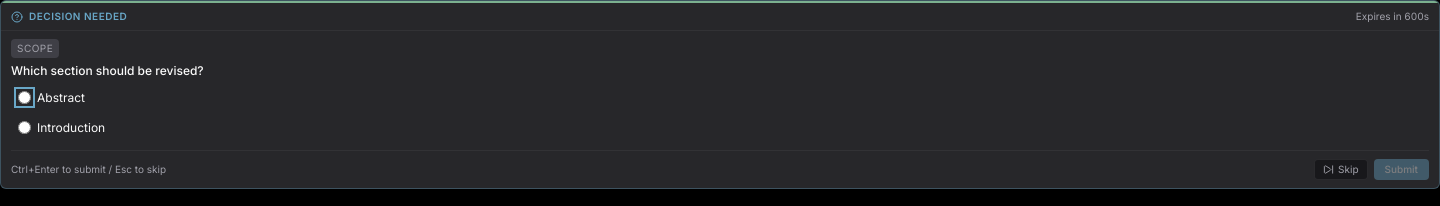
Test case: ChatMessage › renders user question actions with focus feedback and hidden decorative icons
Expected: the button "Submit" is disabled, [1374,159,1429,180]
Click the radio button labelled "Abstract" at (24, 98), box [18,91,31,104]
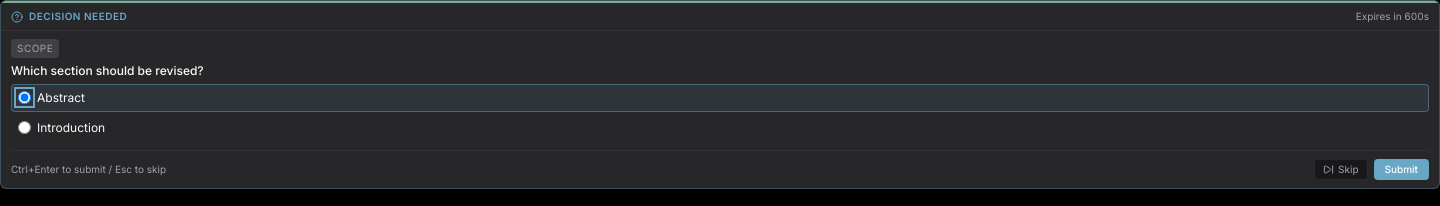
Result: the button "Submit" is enabled at [1374,159,1429,180]
